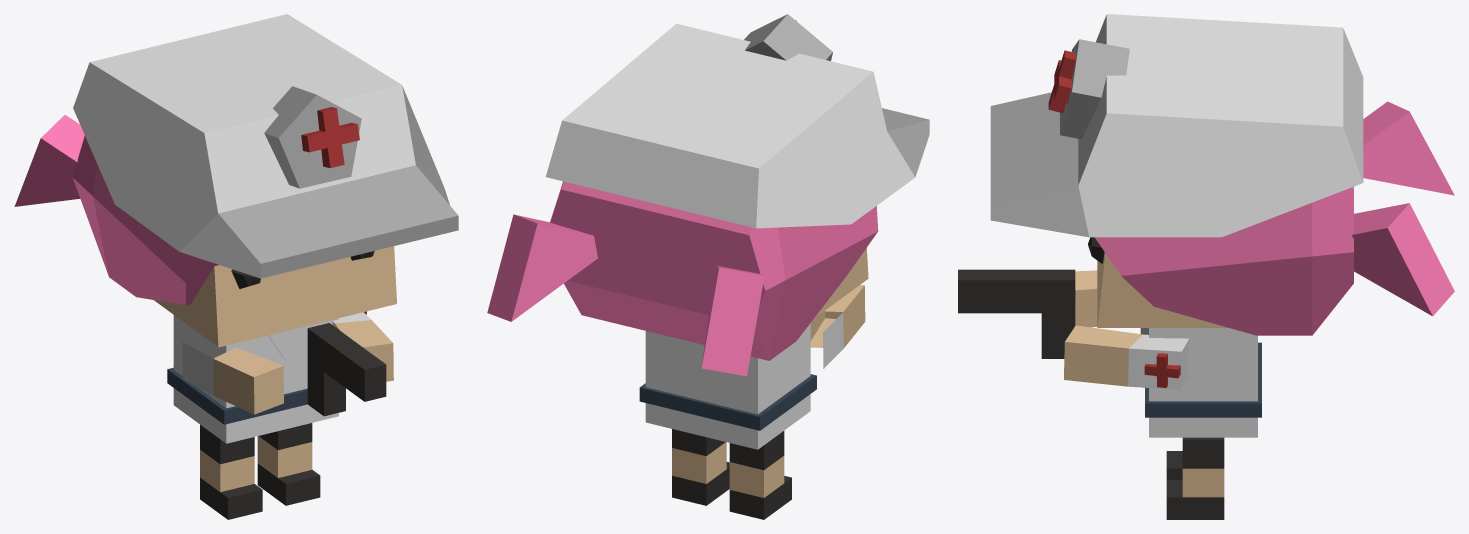
The model's file is Police_Pink_fixed.fbx.
3 renders of one model, left to right at view 1: azimuth 30°, elevation 25°; view 2: azimuth 150°, elevation 25°; view 3: azimuth 270°, elevation 25°, orthographic. The views are drawn at different scales.
Visible parts, largest first — view 1: Head_p, Body_Police_Pink, Foot_p, Arm_p, Gun_p; view 2: Head_p, Body_Police_Pink, Foot_p, Arm_p; view 3: Head_p, Body_Police_Pink, Arm_p, Gun_p, Foot_p.
Boxes of the visible parts, box(x1,y1,x2,y2) form: Head_p: box(14, 14, 458, 347); Body_Police_Pink: box(167, 315, 338, 443); Foot_p: box(200, 423, 320, 519); Arm_p: box(182, 311, 393, 414); Gun_p: box(307, 323, 386, 416); Head_p: box(487, 14, 929, 376); Body_Police_Pink: box(639, 323, 816, 449); Foot_p: box(672, 429, 791, 519); Arm_p: box(810, 285, 865, 368); Head_p: box(990, 14, 1454, 335); Body_Police_Pink: box(1140, 328, 1261, 437); Arm_p: box(1064, 270, 1189, 389); Gun_p: box(958, 269, 1075, 358); Foot_p: box(1166, 437, 1224, 519).
Bounding box in the file's own units: 1.48 × 2.38 × 2.34.
